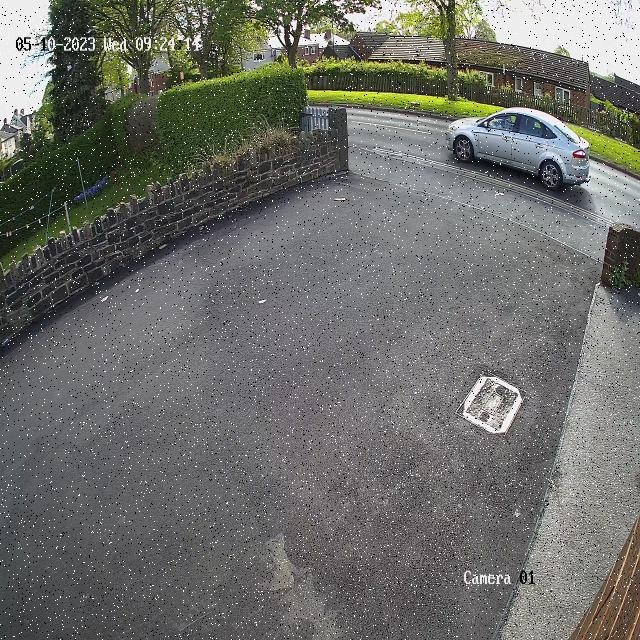vehicle: (442, 99, 600, 198)
